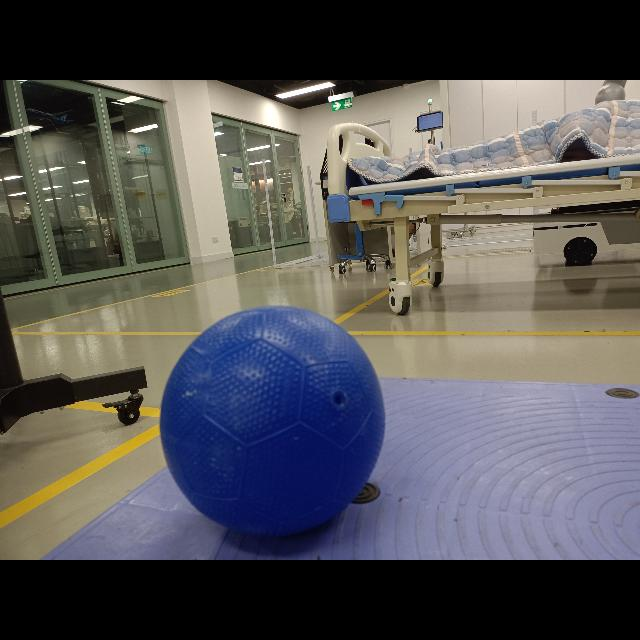B: (163, 309, 377, 536)
